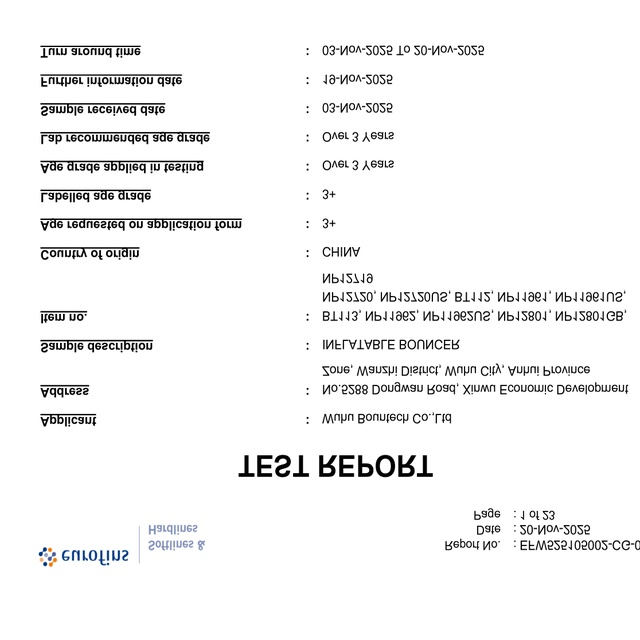eurofins: (33, 542, 135, 574)
